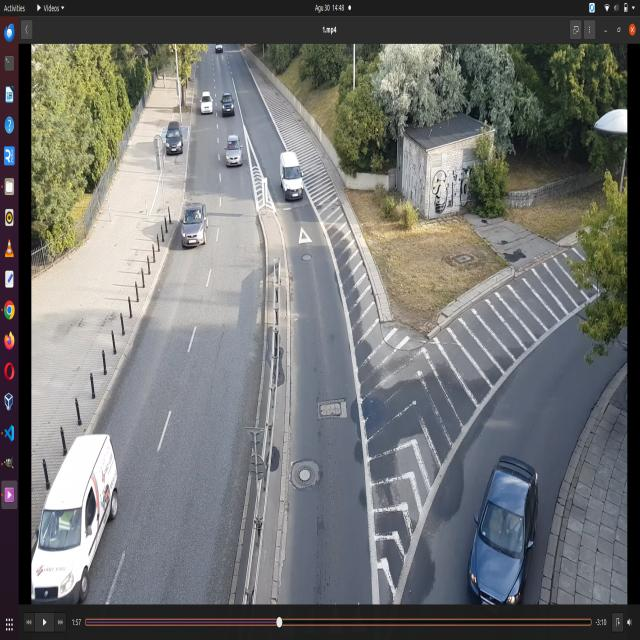person_with_seatbelt: (503, 508, 529, 554)
